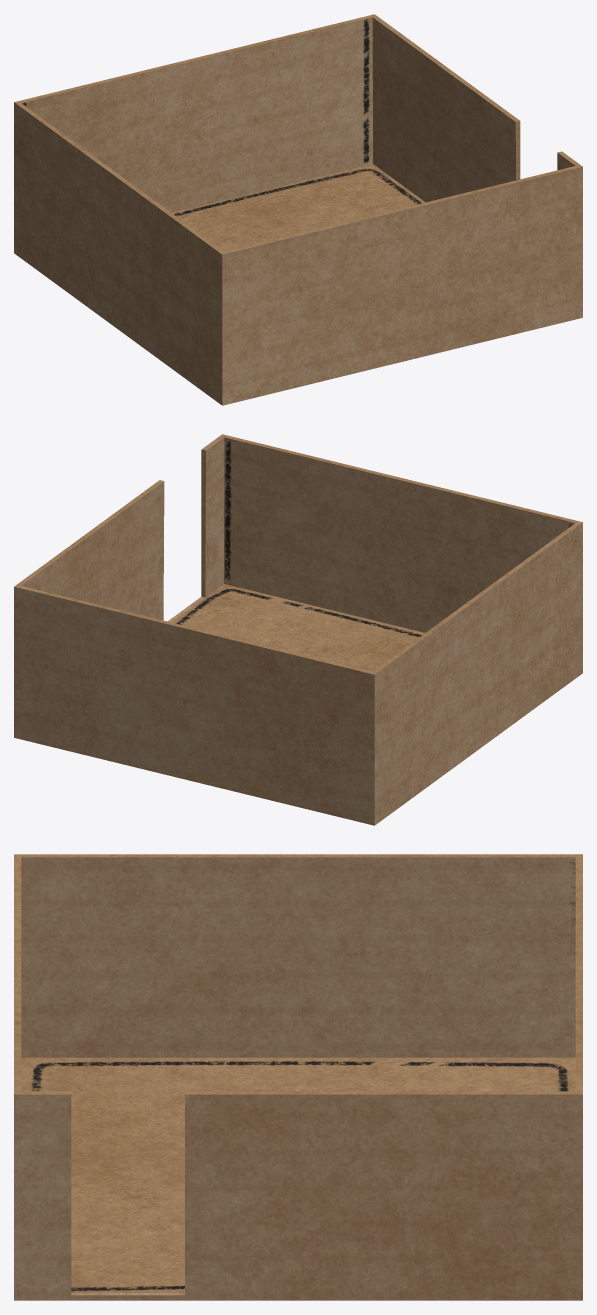
File: 20s_Room1.fbx
3 renders of one model, top to bottom at view 1: azimuth 30°, elevation 25°; view 2: azimuth 150°, elevation 25°; view 3: azimuth 270°, elevation 25°, orthographic. The views are drawn at different scales.
Parts seen in each view (by area): view 1: Room_level1; view 2: Room_level1; view 3: Room_level1.
Part boxes in pixels (bbox=[...]): Room_level1: bbox=[14, 14, 582, 405]; Room_level1: bbox=[14, 434, 582, 825]; Room_level1: bbox=[14, 854, 582, 1300].
Size of the model in its own units: 999 by 400 by 1000.
1 material, 1 textured.
